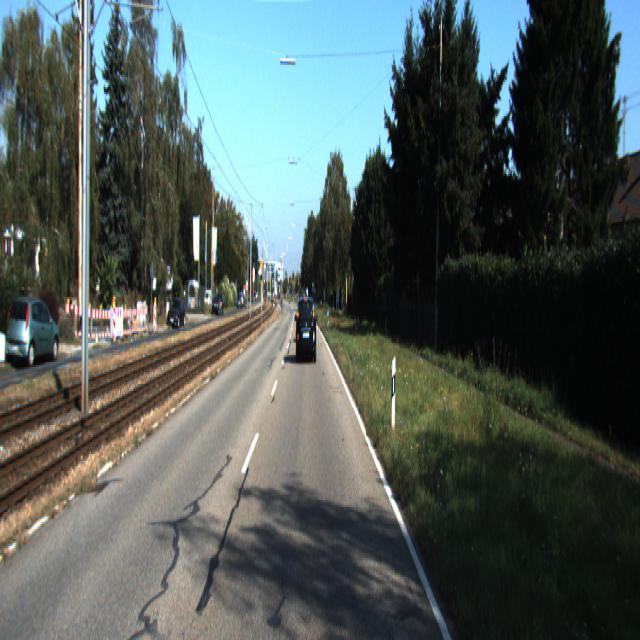Car: (5, 295, 62, 369), (296, 296, 317, 364), (168, 297, 186, 329)
